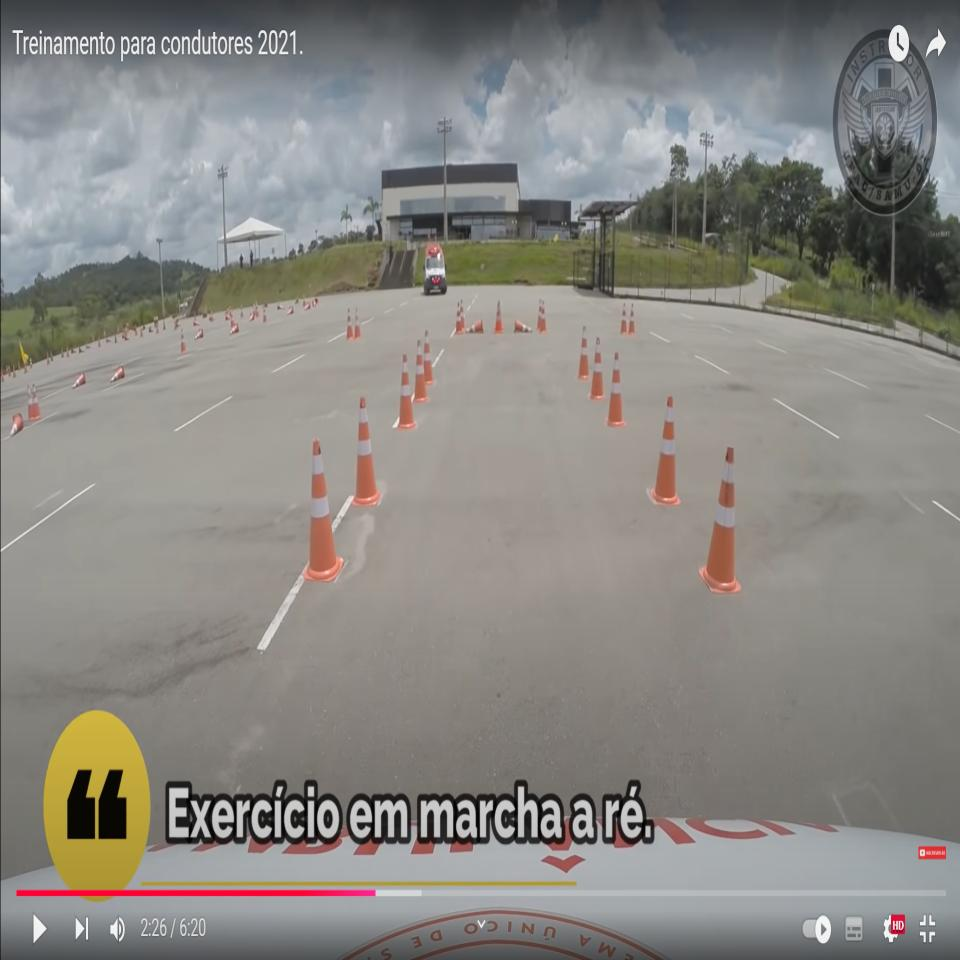bombeiro: (423, 241, 448, 296)
